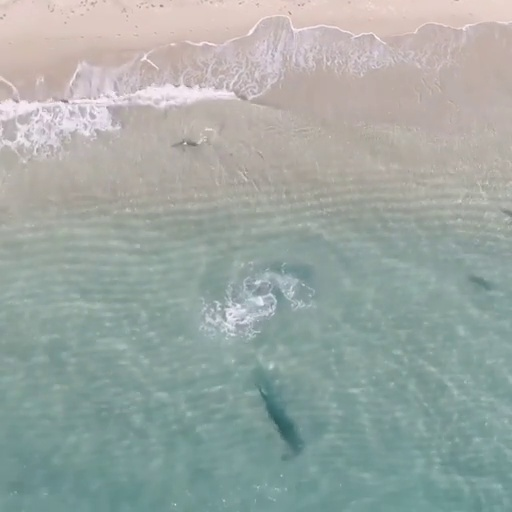shark: (247, 381, 307, 463)
